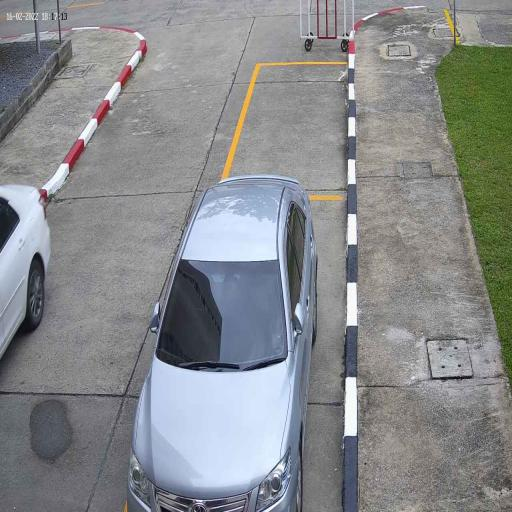car: (122, 170, 322, 512), (0, 176, 54, 373)
